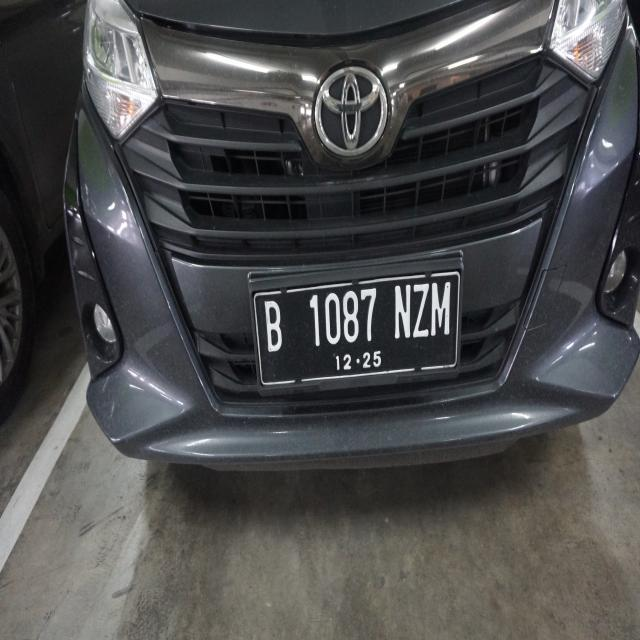0: (318, 292, 344, 346)
1: (306, 292, 328, 362)
7: (359, 278, 384, 346)
8: (340, 287, 363, 346)
B: (257, 293, 289, 365)
M: (428, 274, 459, 344)
N: (392, 282, 414, 349)
Z: (409, 276, 434, 344)
